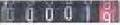1: (63, 6, 73, 21), (7, 8, 17, 22), (25, 7, 34, 22), (45, 8, 53, 22)
2: (84, 6, 93, 22)
:: (103, 11, 111, 24)
